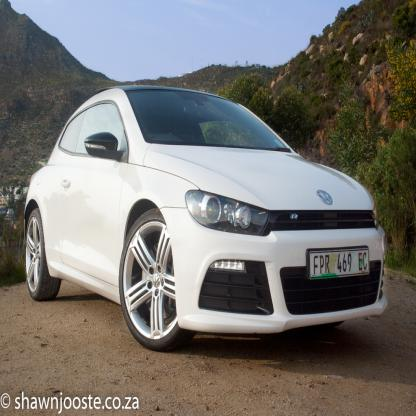Car: (23, 86, 388, 351)
